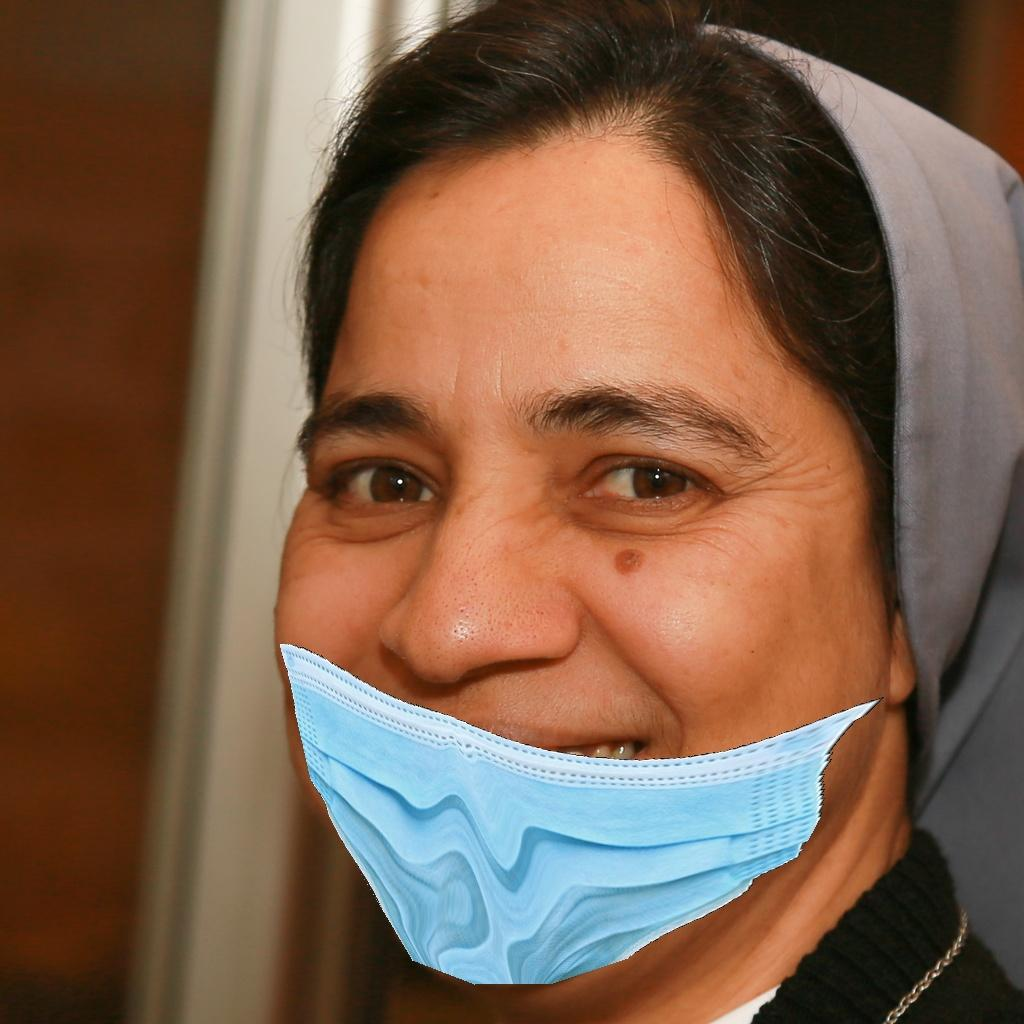Máscara Incorreta: (278, 298, 870, 957)
